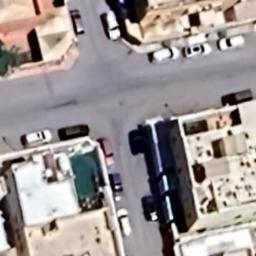SUV: (63, 8, 90, 40), (16, 126, 53, 146), (97, 136, 119, 168), (216, 30, 246, 52), (152, 44, 180, 66), (108, 172, 126, 205), (114, 208, 134, 236)
sedan: (184, 42, 214, 63)
truck: (102, 7, 124, 45)
unknown: (58, 122, 94, 143)
